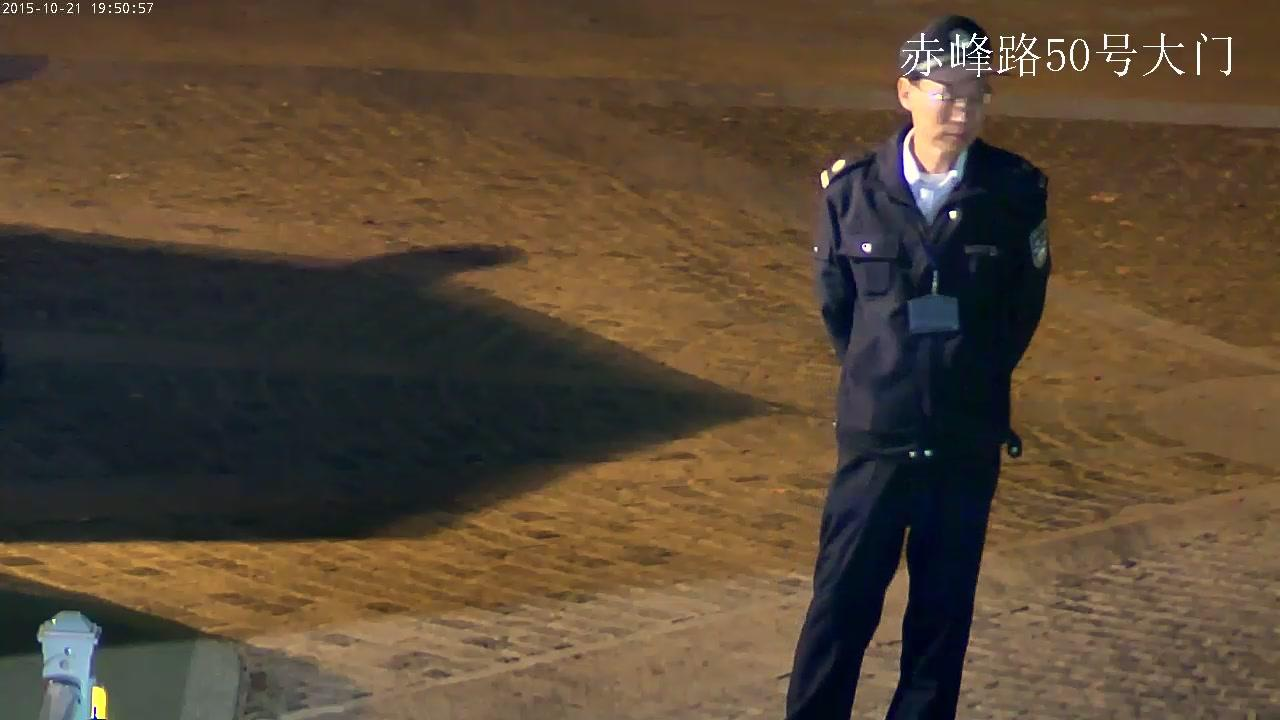face: (912, 78, 985, 152)
